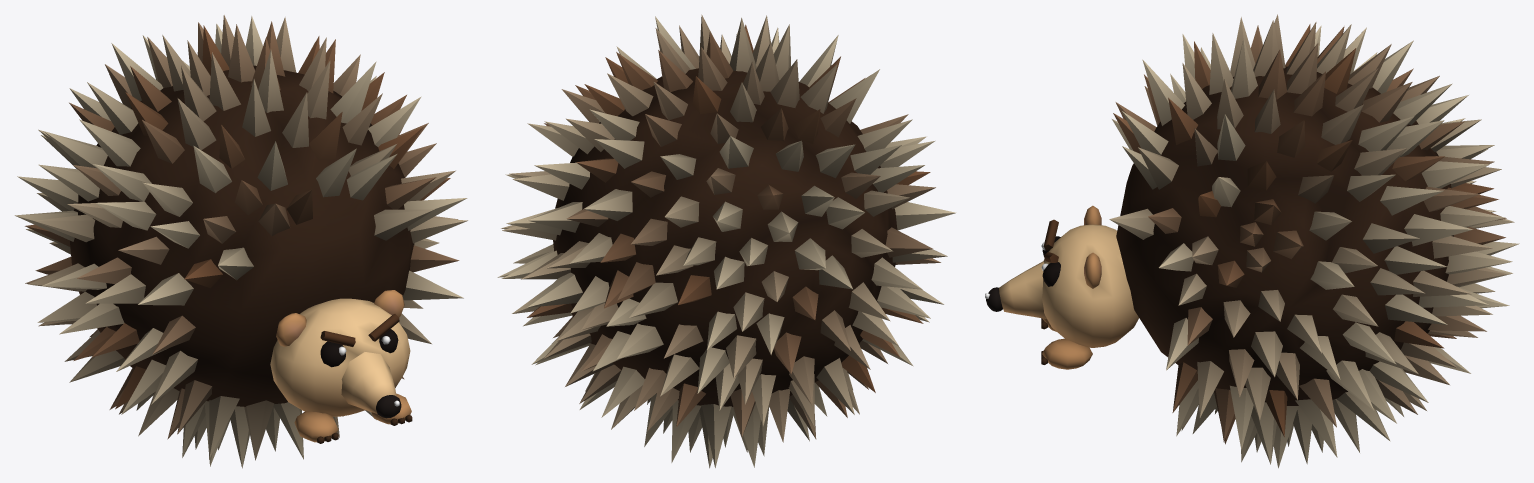
The model's file is rolling_mountain.glb.
The picture shows the model from 3 angles, left to right: view 1: azimuth 30°, elevation 25°; view 2: azimuth 150°, elevation 25°; view 3: azimuth 270°, elevation 25°; orthographic projection.
Visible parts, largest first — view 1: shell, face; view 2: shell; view 3: shell, face.
Boxes of the visible parts, x1,y1,x2,y2 form: shell: (14,15,467,468); face: (270,290,412,443); shell: (497,14,956,468); shell: (1109,14,1519,468); face: (985,205,1138,369).
Bounding box in the file's own units: 1.07 × 1.07 × 1.26.
